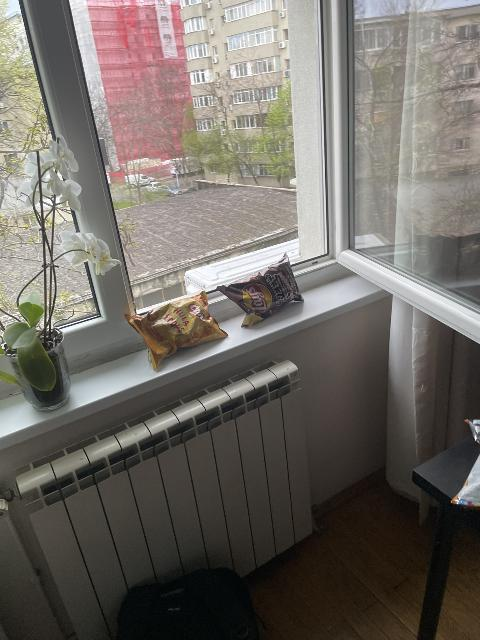Chio Hula Hoops Cheese 70g: (127, 293, 230, 370)
Lays Beef Grilled Ribs 125g: (215, 253, 304, 326)
